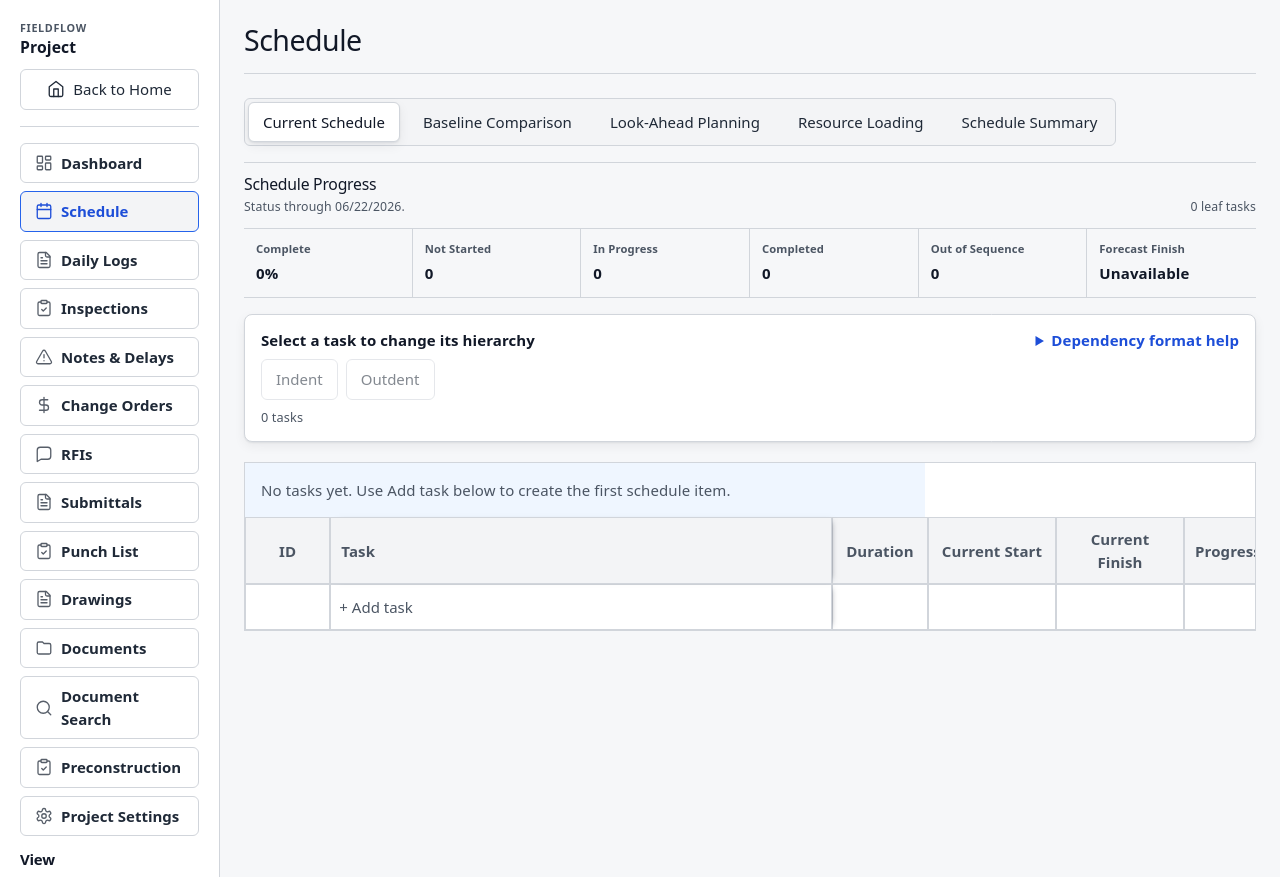
Test: SchedulerPage › switches between the current schedule and baseline comparison
Click the button "Baseline Comparison" at [497, 122], box [408, 102, 587, 142]
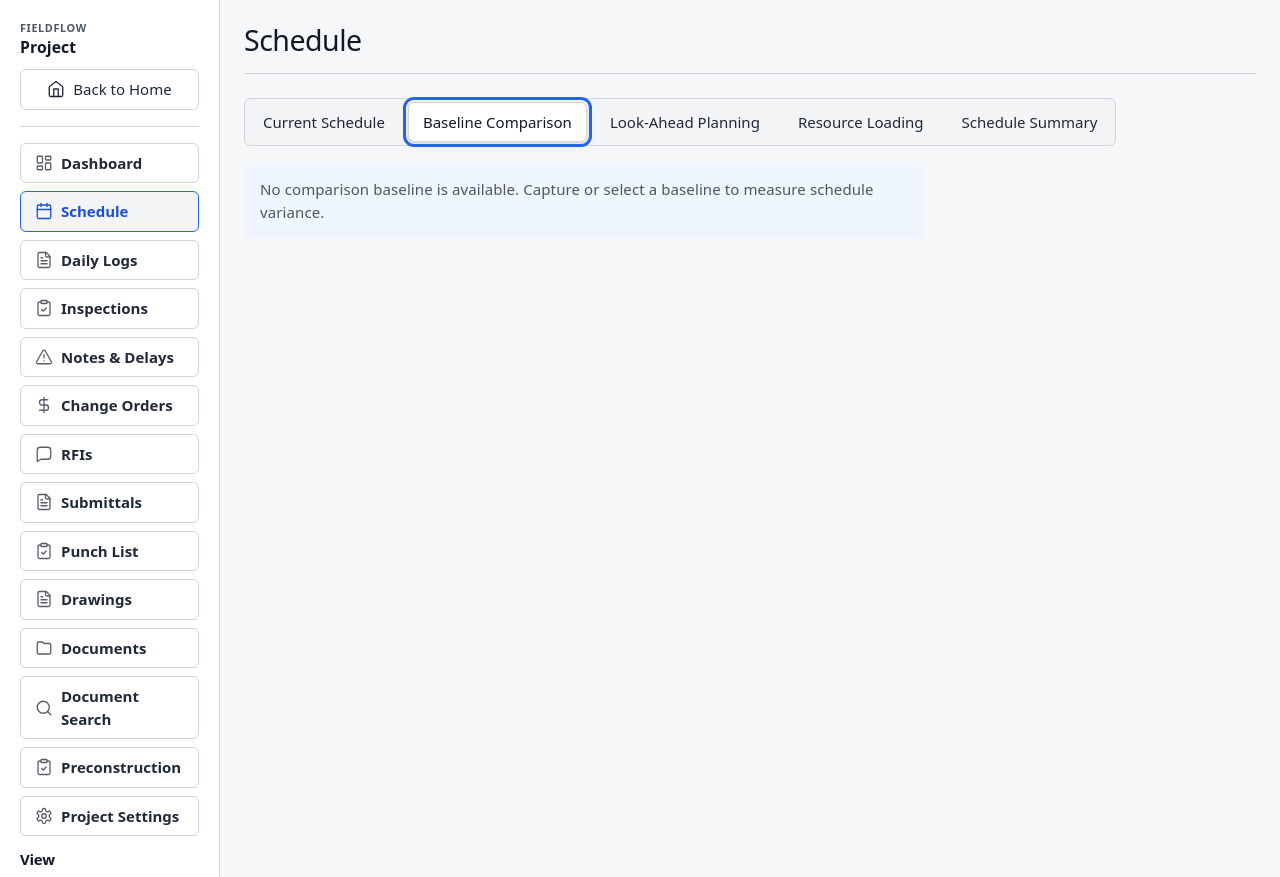
Expected: the text "No comparison baseline is available" is shown, [260, 179, 874, 222]
Expected: the heading "Dependency format help" is gone
Click the button "Current Schedule" at [324, 122], box [248, 102, 400, 142]
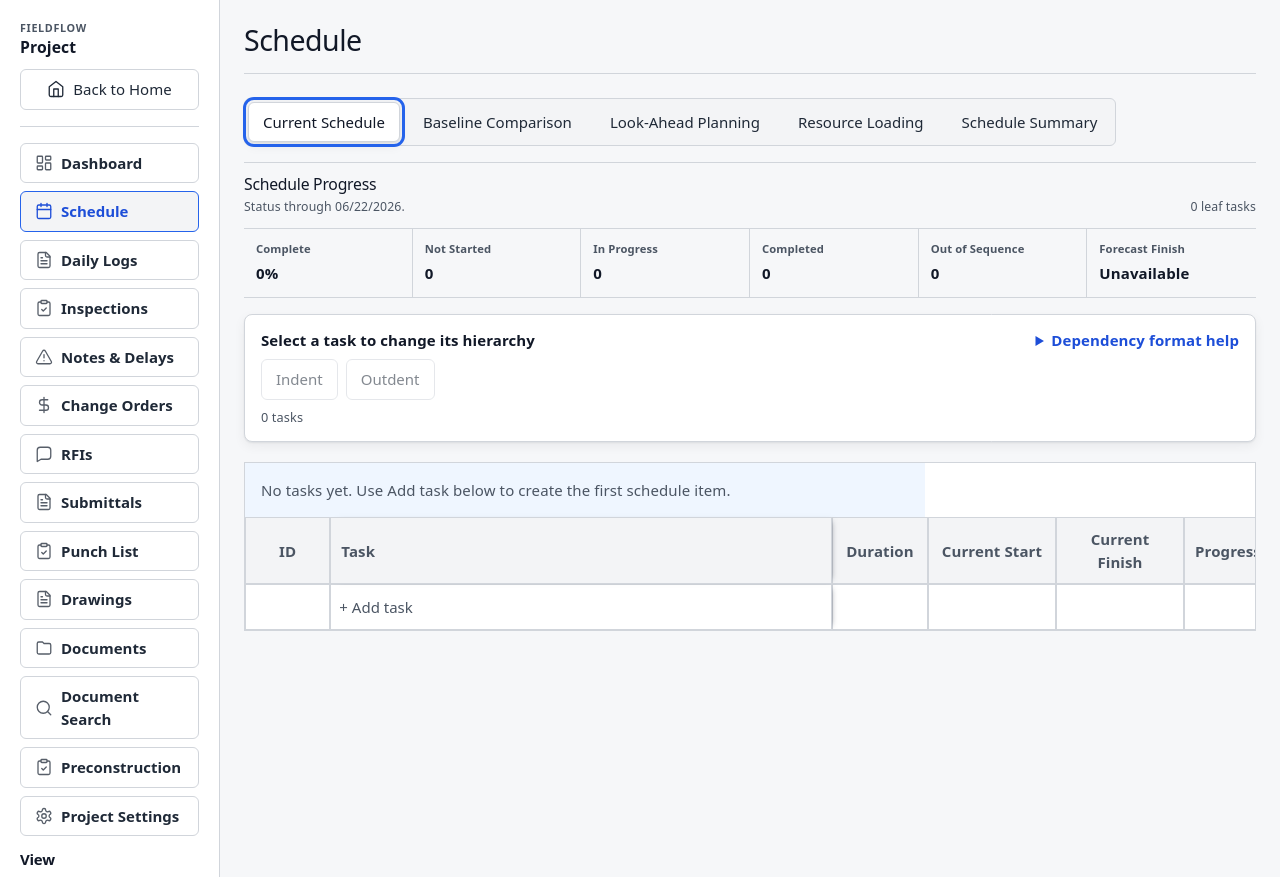
Expected: the heading "Dependency format help" is shown, [1051, 330, 1239, 350]
